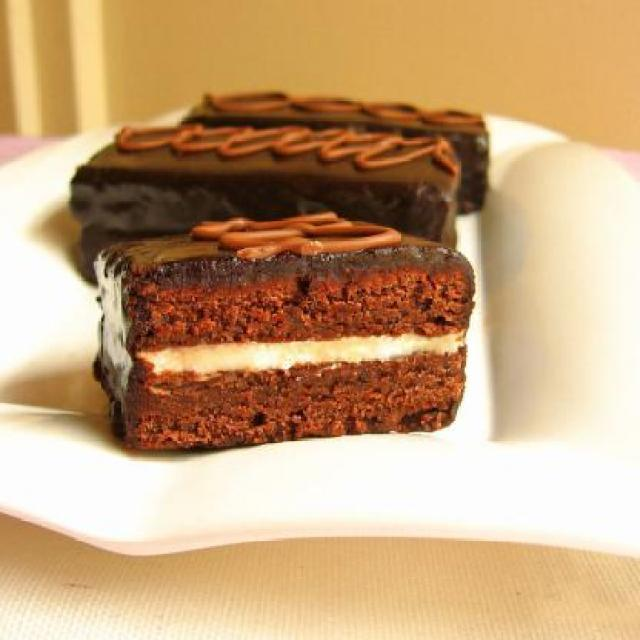Merendine packaged: (92, 212, 480, 465), (72, 124, 460, 298)
